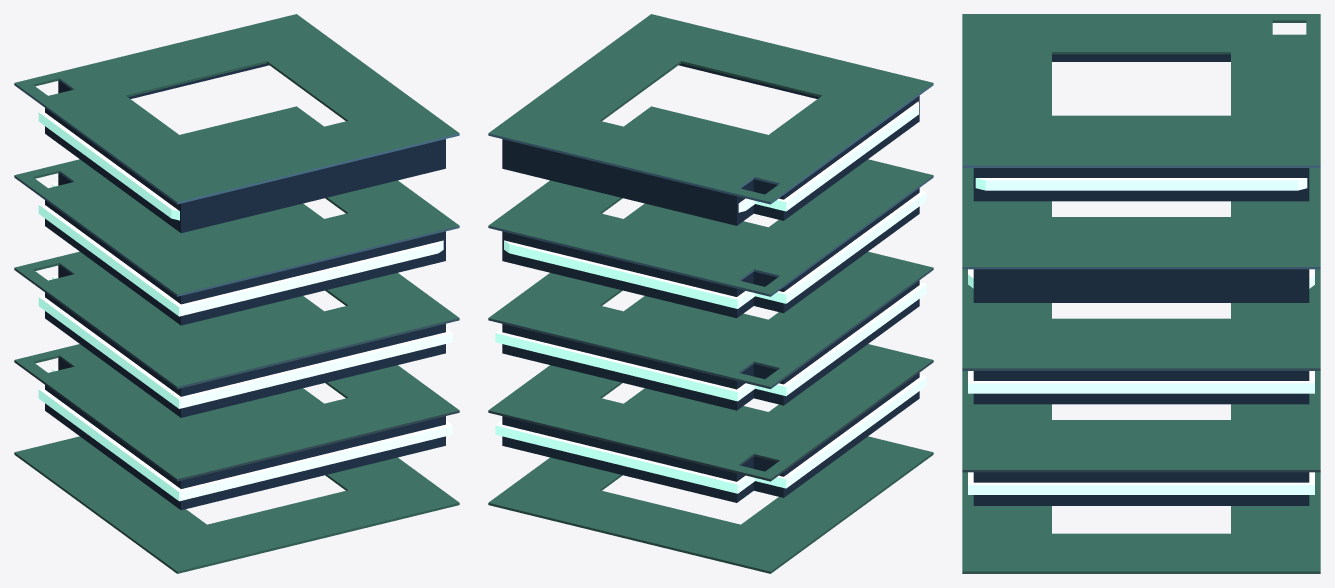
The model's file is StudzArtcade_TryWallColorChange_2.gltf.
3 views of the same model, side by side, from view 1: azimuth 30°, elevation 25°; view 2: azimuth 150°, elevation 25°; view 3: azimuth 270°, elevation 25° (orthographic). The views are drawn at different scales.
Parts seen in each view (by area): view 1: Ground Floor.007; view 2: Ground Floor.007; view 3: Ground Floor.007.
Part boxes in pixels (x1,y1,x2,y2): Ground Floor.007: (14,14,459,573); Ground Floor.007: (488,14,933,573); Ground Floor.007: (962,14,1320,573).
Size of what is drawn, in the model's own units: 32 by 40.25 by 32.
3 materials, 1 textured.
